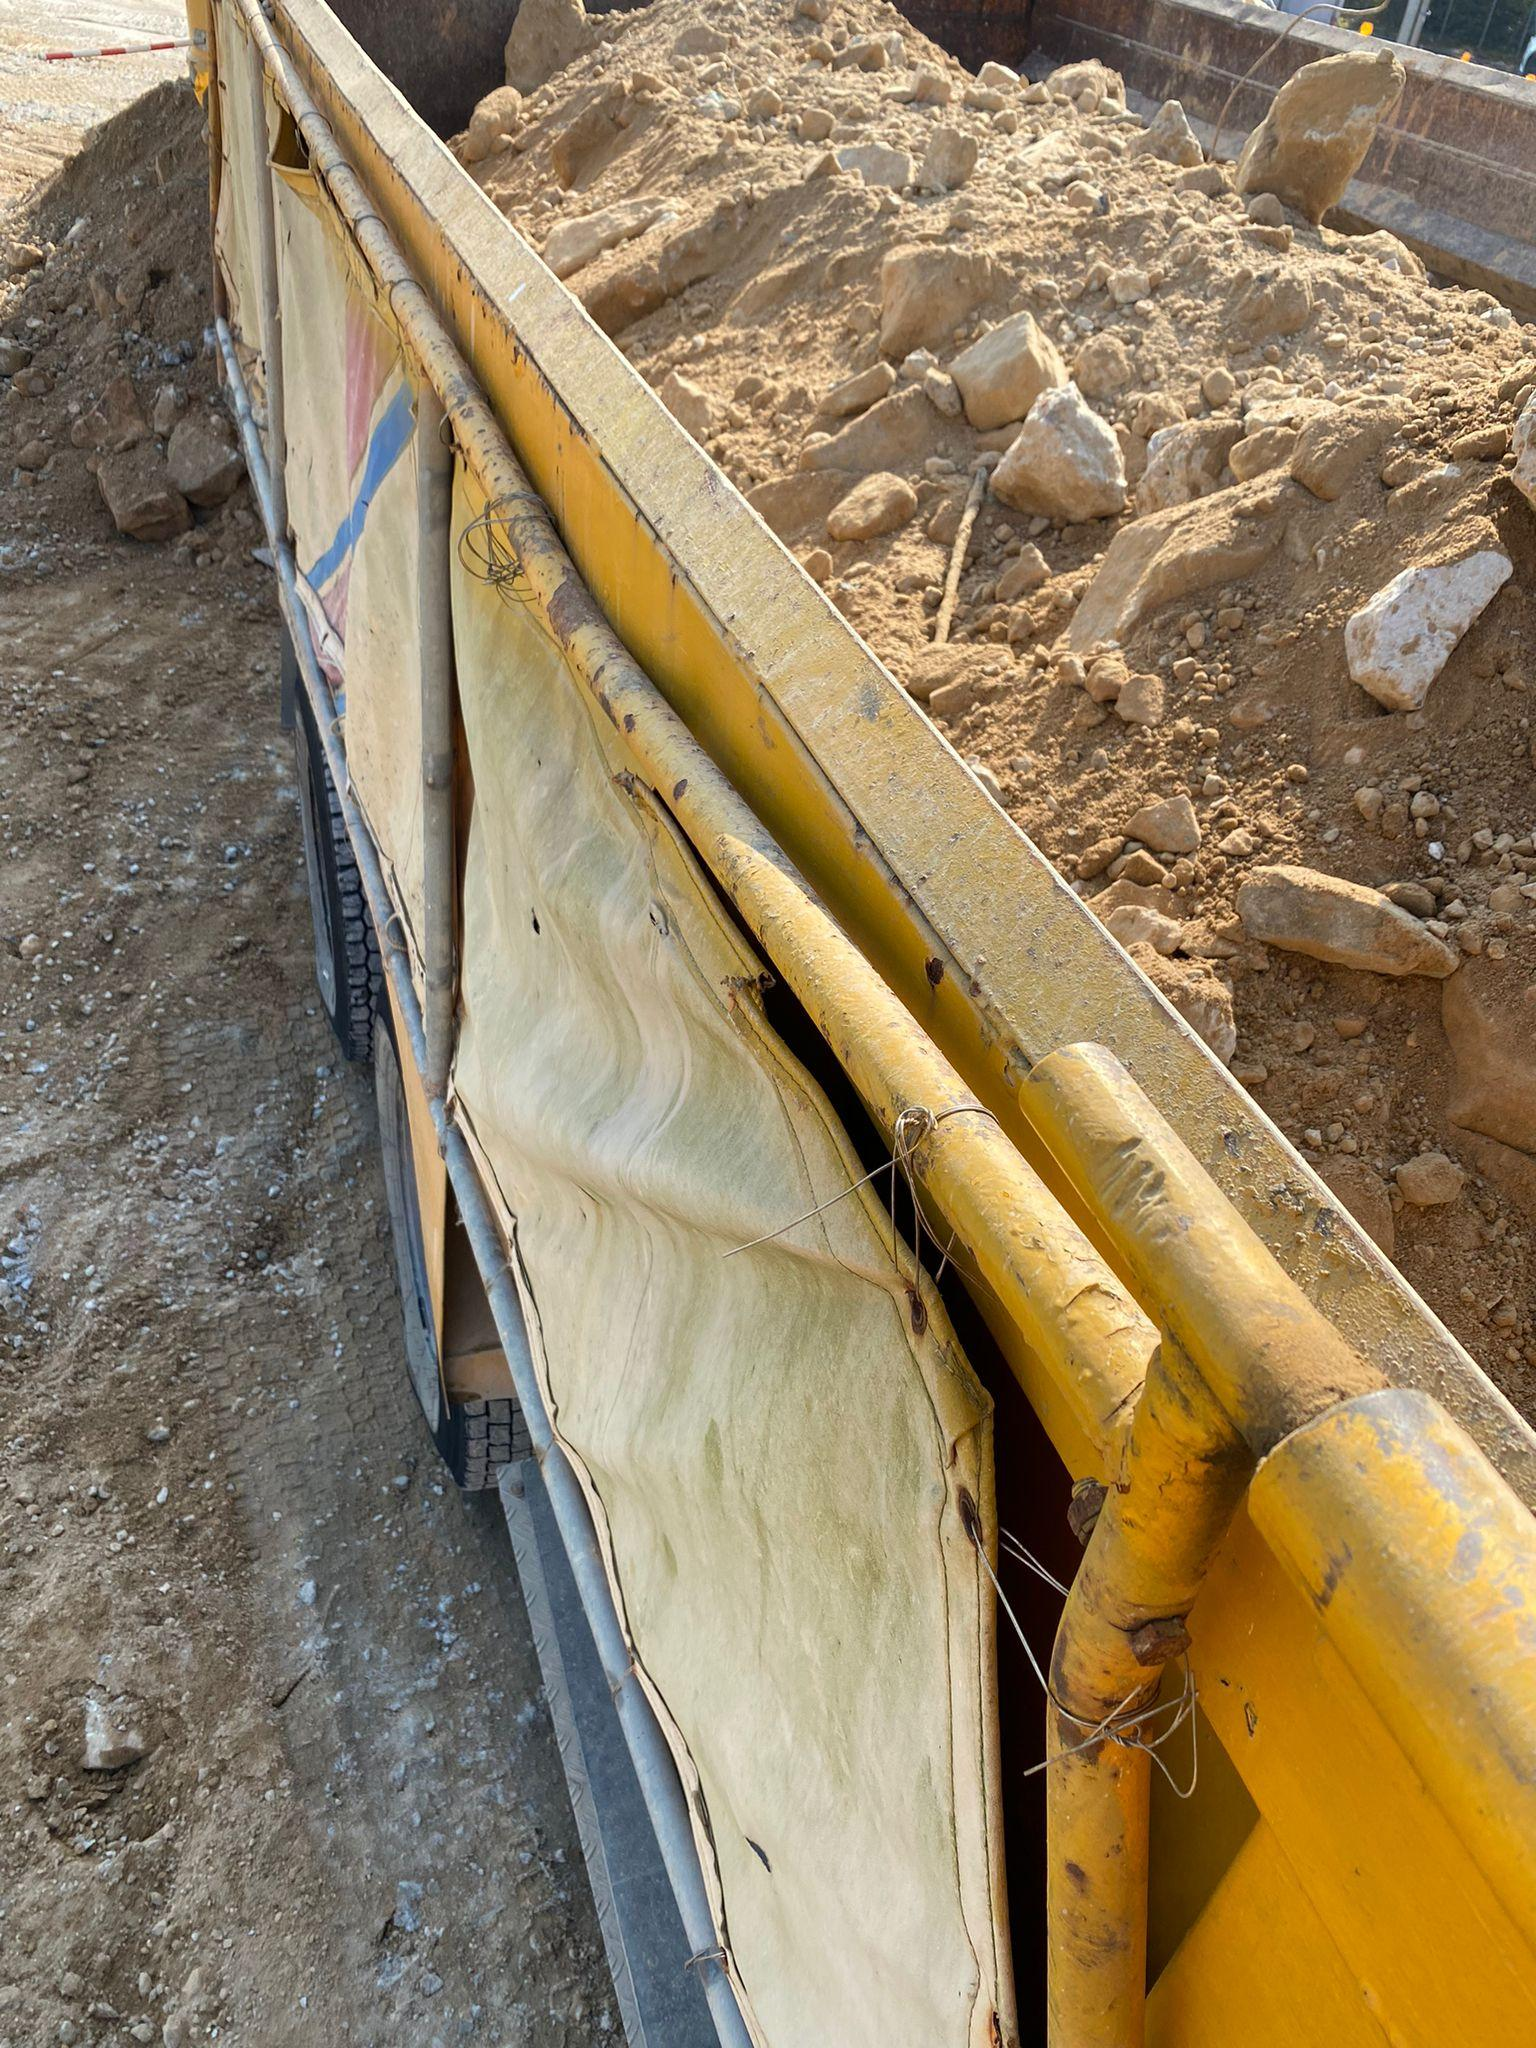dry: (470, 6, 1536, 1350)
